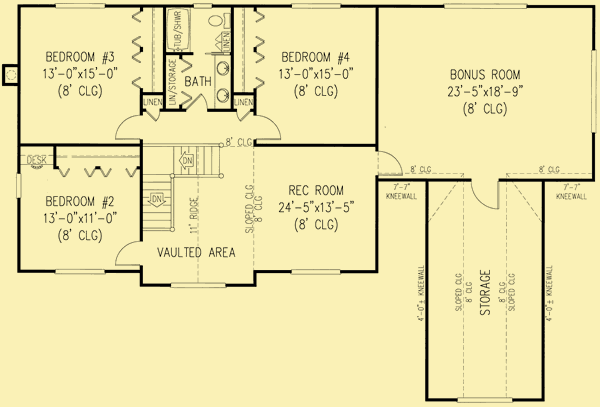door: (466, 175, 502, 212), (373, 149, 405, 180), (113, 237, 145, 267), (110, 113, 142, 141), (254, 114, 282, 142)
large sink: (206, 11, 234, 30)
small sink: (211, 54, 235, 111)
stairs: (139, 141, 225, 234)
tub: (164, 4, 193, 55)
windows: (437, 1, 534, 13), (588, 46, 600, 139), (165, 280, 233, 291), (453, 395, 519, 406), (283, 267, 347, 278), (50, 267, 108, 277), (287, 2, 344, 12), (53, 2, 107, 12), (12, 170, 23, 200)
